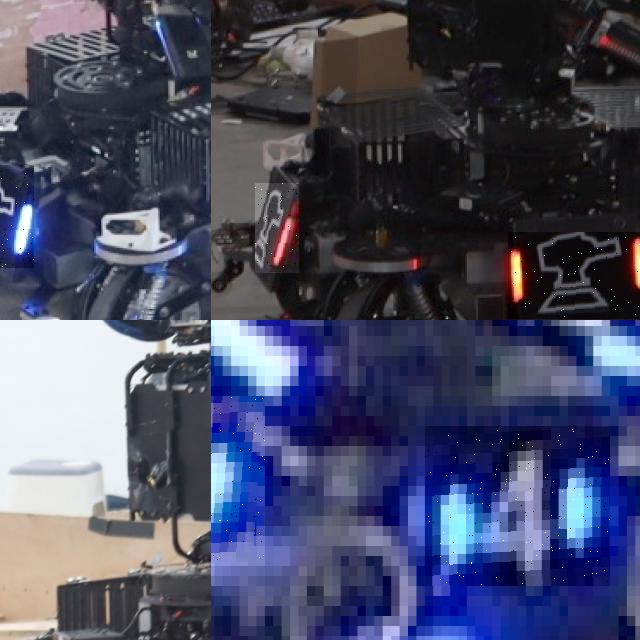B4: (425, 426, 610, 586), (211, 396, 264, 566)
Bs: (0, 165, 34, 267)
Rs: (507, 232, 640, 319), (255, 184, 299, 274)
